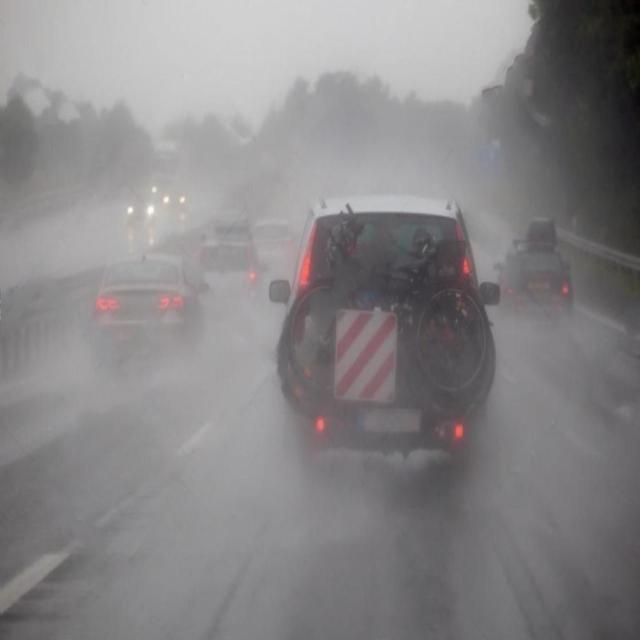Car: (272, 173, 502, 493), (86, 245, 198, 370), (499, 211, 581, 331), (199, 222, 259, 317), (258, 205, 297, 294), (122, 192, 160, 233), (163, 182, 192, 218)
